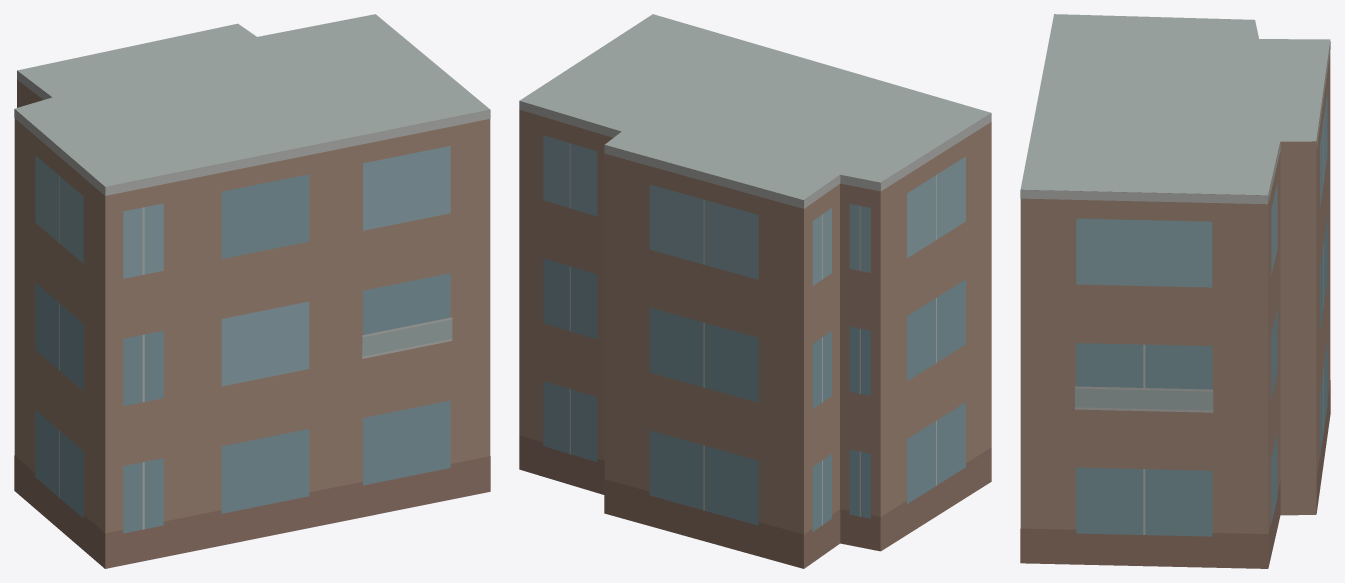
Rendered from survey-upis-32978926.glb.
3 renders of one model, left to right at view 1: azimuth 30°, elevation 25°; view 2: azimuth 150°, elevation 25°; view 3: azimuth 270°, elevation 25°, orthographic. The views are drawn at different scales.
Parts seen in each view (by area): view 1: survey-upis-32978926.tmp; view 2: survey-upis-32978926.tmp; view 3: survey-upis-32978926.tmp.
Part boxes in pixels (x1,y1,x2,y2): survey-upis-32978926.tmp: (14,14,490,568); survey-upis-32978926.tmp: (519,14,991,568); survey-upis-32978926.tmp: (1020,14,1330,568).
Bounding box in the file's own units: 10.63 × 10.2 × 7.68.
